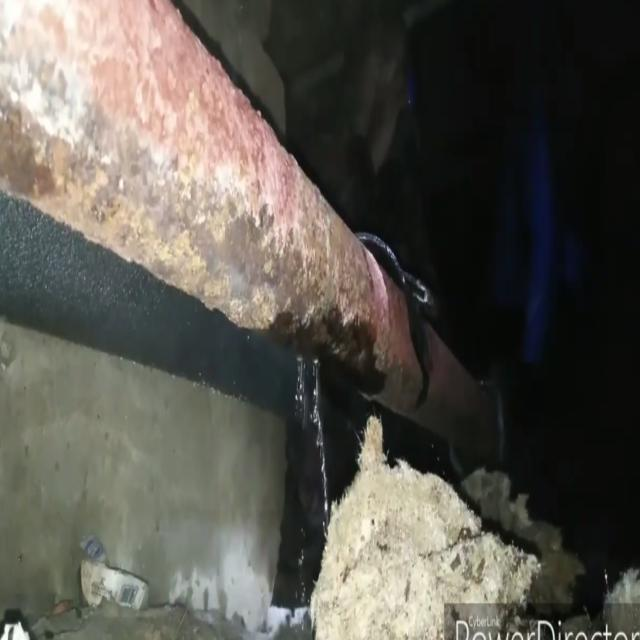leak: (274, 355, 329, 607), (356, 233, 435, 404)
